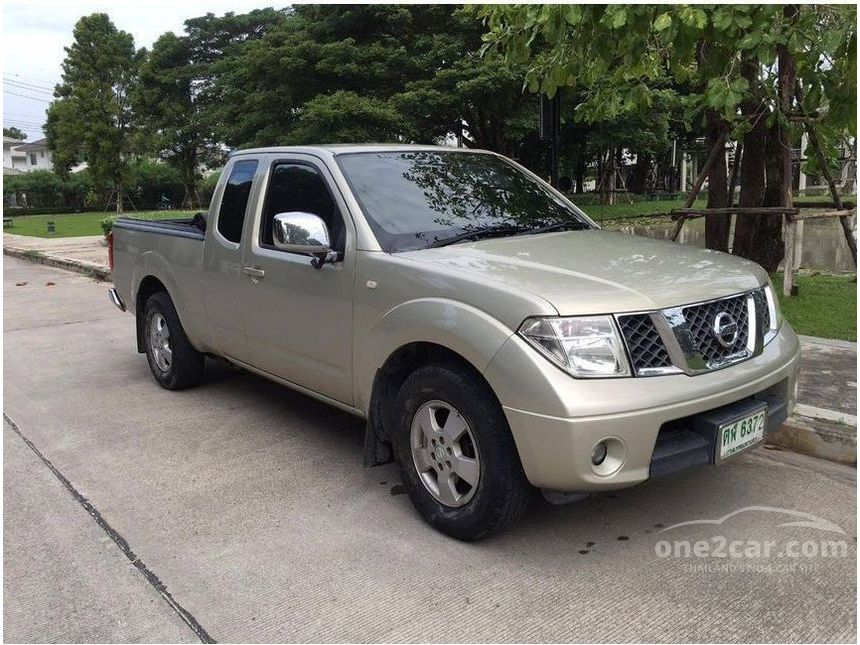pickup: (100, 137, 805, 538)
